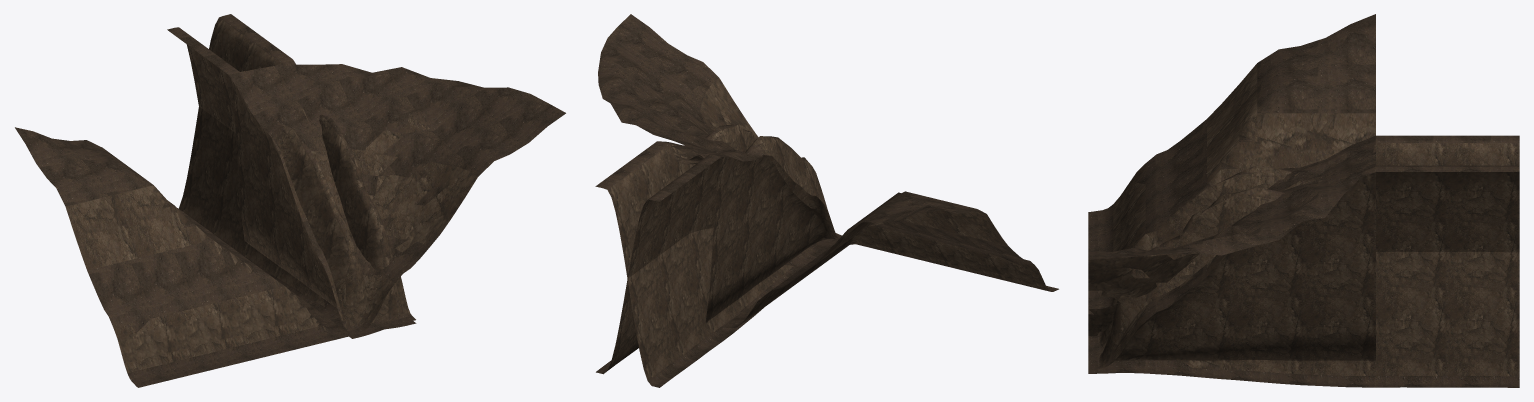
File: bk_coast_land_dead.glb
The picture shows the model from 3 angles, left to right: view 1: azimuth 30°, elevation 25°; view 2: azimuth 150°, elevation 25°; view 3: azimuth 270°, elevation 25°; orthographic projection. The views are drawn at different scales.
Parts seen in each view (by area): view 1: corner_inner, corner_outer, endcap_sea_to_land, endcap_land_to_sea, pass12, straight12_a, straight6; view 2: endcap_sea_to_land, corner_outer, pass12, corner_inner, endcap_land_to_sea, straight12_a; view 3: endcap_land_to_sea, pass12, corner_inner, endcap_sea_to_land, corner_outer, straight12_a.
Boxes of the visible parts, x1,y1,x2,y2 form: corner_inner: (15, 127, 351, 387); corner_outer: (229, 64, 565, 335); endcap_sea_to_land: (179, 14, 411, 338); endcap_land_to_sea: (167, 27, 416, 331); pass12: (229, 76, 415, 335); straight12_a: (240, 60, 414, 333); straight6: (246, 67, 376, 325); endcap_sea_to_land: (595, 124, 837, 387); corner_outer: (598, 14, 841, 239); pass12: (705, 157, 836, 322); corner_inner: (722, 191, 1058, 328); endcap_land_to_sea: (596, 136, 839, 374); straight12_a: (660, 141, 815, 208); endcap_land_to_sea: (1088, 135, 1519, 387); pass12: (1088, 172, 1375, 369); corner_inner: (1088, 14, 1375, 314); endcap_sea_to_land: (1099, 165, 1519, 368); corner_outer: (1088, 135, 1375, 337); straight12_a: (1089, 146, 1375, 369).
Bounding box in the file's own units: 80 × 33.26 × 60.
2 materials, 2 textured.
